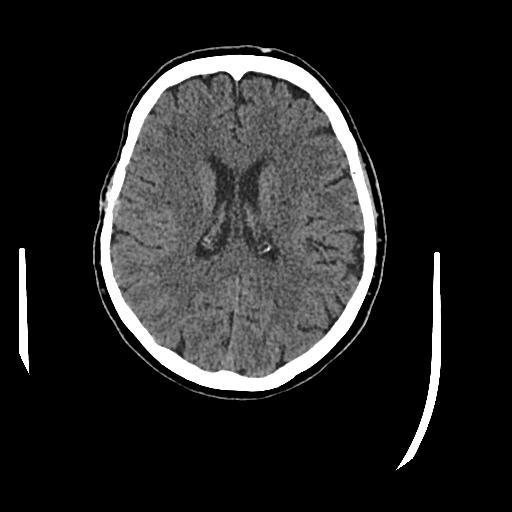Normal_Brain: (92, 47, 391, 405)
